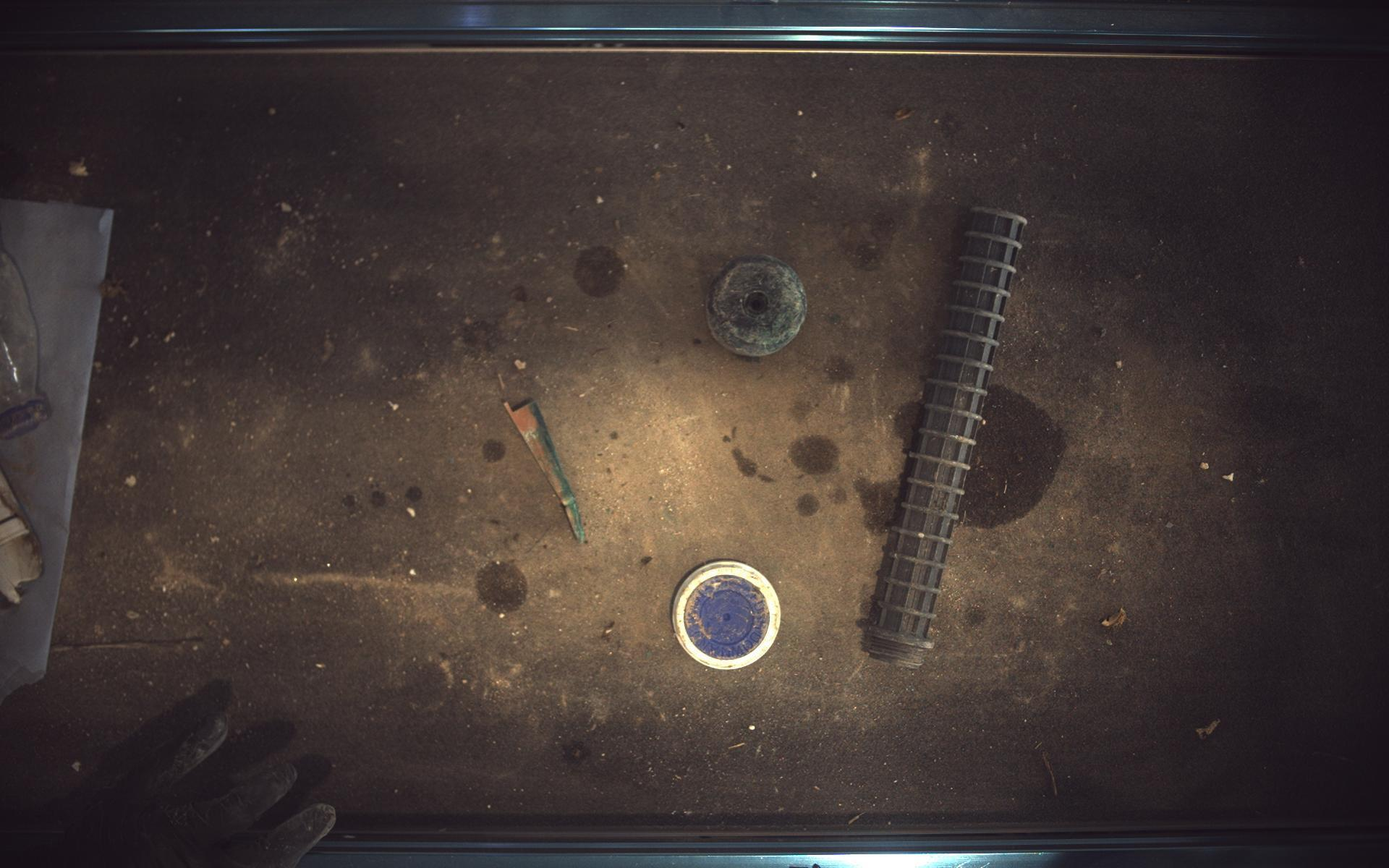general_w: (708, 256, 808, 357), (1, 239, 51, 439)
plastic: (865, 206, 1029, 668), (673, 561, 781, 671), (504, 399, 585, 543), (1, 472, 41, 605)
